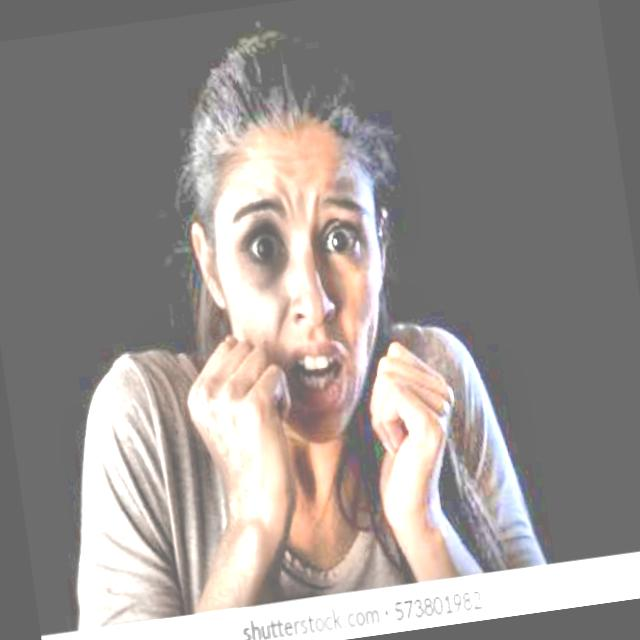fear: (149, 29, 429, 455)
